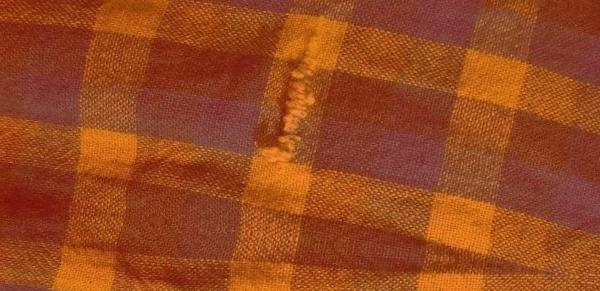knot: (261, 46, 317, 165)
